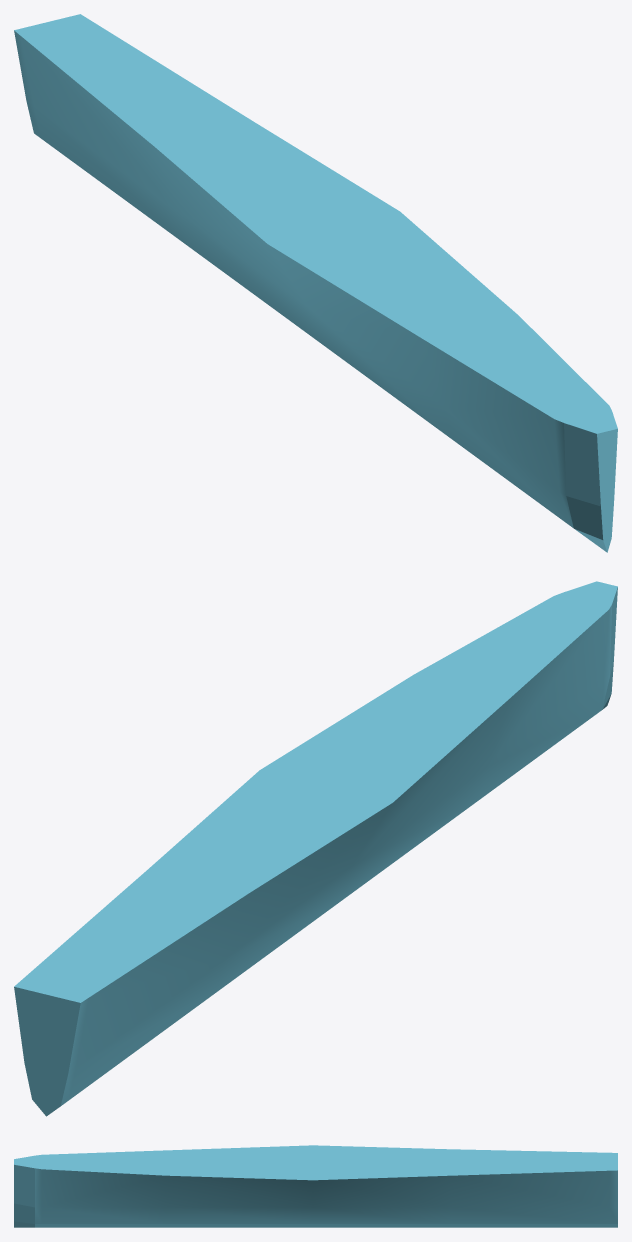
The picture shows the model from 3 angles, top to bottom: view 1: azimuth 30°, elevation 25°; view 2: azimuth 150°, elevation 25°; view 3: azimuth 270°, elevation 25°; orthographic projection. The views are drawn at different scales.
Parts seen in each view (by area): view 1: polySurface3; view 2: polySurface3; view 3: polySurface3.
Boxes of the visible parts, left/top/right/bottom form: polySurface3: left=14, top=14, right=617, bottom=552; polySurface3: left=14, top=581, right=617, bottom=1116; polySurface3: left=14, top=1145, right=617, bottom=1227.
Size of the model in its own units: 3.01 by 2.64 by 21.99.
